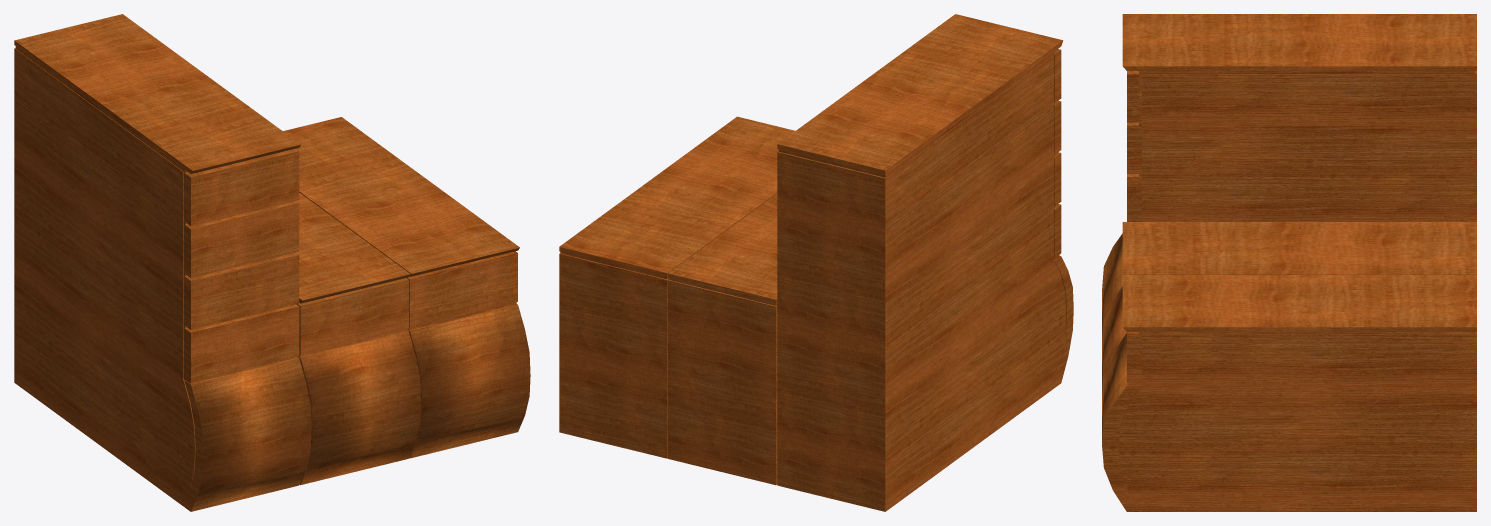
The model's file is sh-scopia-box-room.glb.
The picture shows the model from 3 angles, left to right: view 1: azimuth 30°, elevation 25°; view 2: azimuth 150°, elevation 25°; view 3: azimuth 270°, elevation 25°; orthographic projection.
Visible parts, largest first — view 1: box2_Cube.005; view 2: box2_Cube.005; view 3: box2_Cube.005.
Part boxes in pixels (x1,y1,x2,y2): box2_Cube.005: (14,14,530,511); box2_Cube.005: (559,14,1073,511); box2_Cube.005: (1102,14,1476,511).
Size of the model in its own units: 1 by 1 by 1.
Materials: 1 (1 with a texture image).
